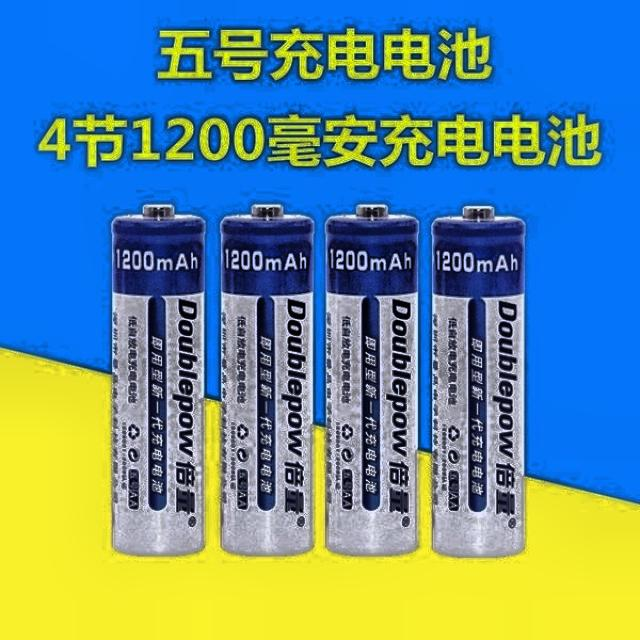Non-Valuable Waste - Batteries: (220, 205, 314, 554), (112, 204, 205, 554), (432, 206, 525, 556), (326, 205, 419, 554)
